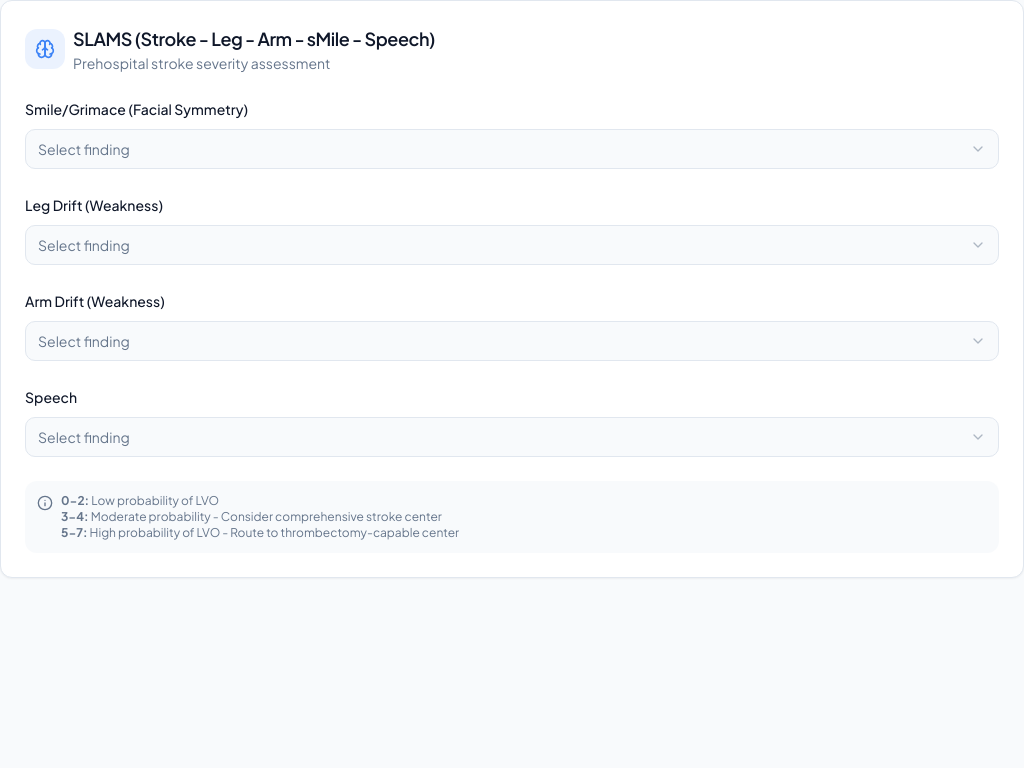
Test: SLAMSCalculator › Scoring Options - Speech › provides speech assessment scoring options (0-2)
Click the 4th dropdown labelled "Select finding".
click(84, 437)  # box [25,417,999,457]
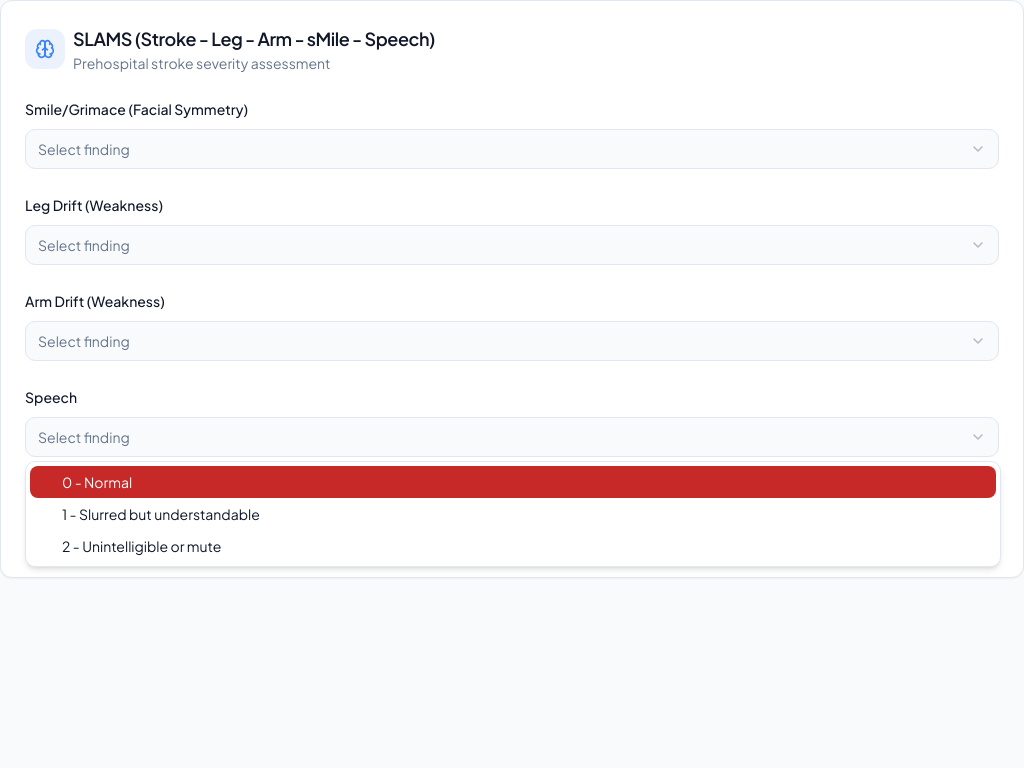
expect the text "0 - Normal" is shown: met, box [62,472,132,492]
expect the text "1 - Slurred but understandable" is shown: met, box [62,504,260,524]
expect the text "2 - Unintelligible or mute" is shown: met, box [62,536,221,556]
